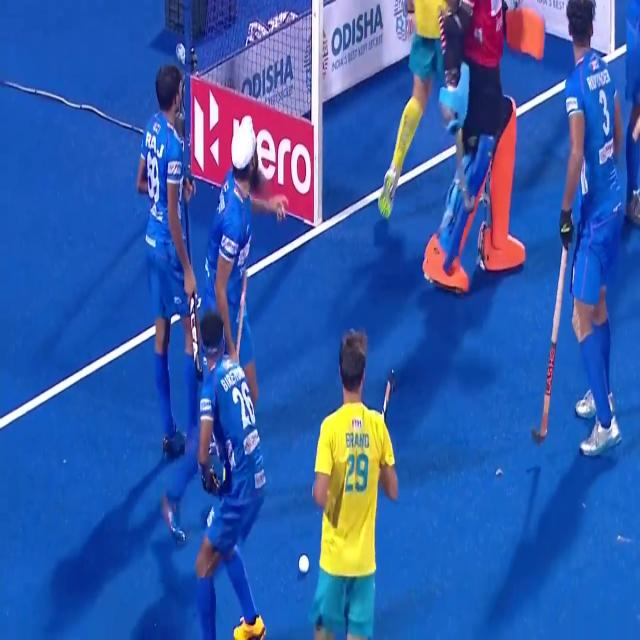ball: (290, 544, 317, 585)
